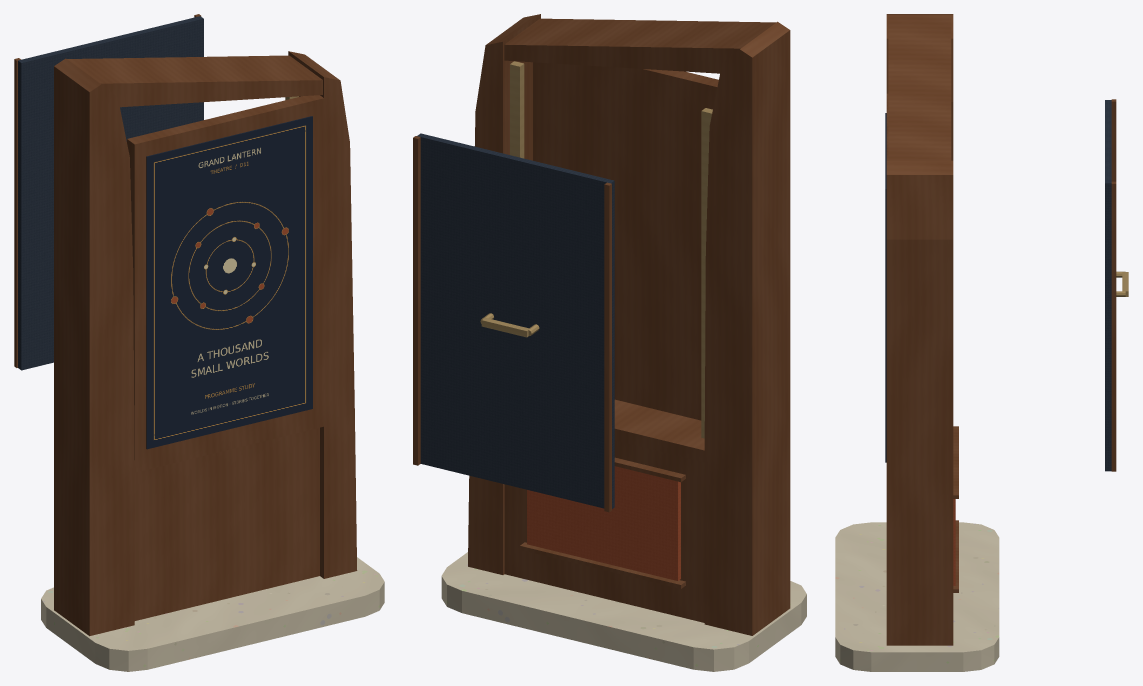
File: AST-CUL-001_access.glb
3 renders of one model, left to right at view 1: azimuth 30°, elevation 25°; view 2: azimuth 150°, elevation 25°; view 3: azimuth 270°, elevation 25°, orthographic. The views are drawn at different scales.
Visible parts, largest first — view 1: AST-CUL-001_access__AST-CUL-001__warm_walnut, AST-CUL-001_access__AST-CUL-001__programme_original, AST-CUL-001_access__REAR_SERVICE_PANEL__auditorium_navy_fibr, AST-CUL-001_access__AST-CUL-001__warm_stone, AST-CUL-001_access__REAR_SERVICE_PANEL__warm_walnut; view 2: AST-CUL-001_access__AST-CUL-001__warm_walnut, AST-CUL-001_access__REAR_SERVICE_PANEL__auditorium_navy_fibr, AST-CUL-001_access__AST-CUL-001__warm_stone, AST-CUL-001_access__AST-CUL-001__auditorium_amber_velvet, AST-CUL-001_access__REAR_SERVICE_PANEL__warm_walnut, AST-CUL-001_access__AST-CUL-001__champagne_metal, AST-CUL-001_access__REAR_SERVICE_PANEL__champagne_metal; view 3: AST-CUL-001_access__AST-CUL-001__warm_walnut, AST-CUL-001_access__AST-CUL-001__warm_stone, AST-CUL-001_access__REAR_SERVICE_PANEL__auditorium_navy_fibr, AST-CUL-001_access__REAR_SERVICE_PANEL__warm_walnut, AST-CUL-001_access__AST-CUL-001__programme_original.
Part boxes in pixels (box(x1,y1,x2,y2)): AST-CUL-001_access__AST-CUL-001__warm_walnut: box(54, 51, 357, 636); AST-CUL-001_access__AST-CUL-001__programme_original: box(146, 116, 312, 449); AST-CUL-001_access__REAR_SERVICE_PANEL__auditorium_navy_fibr: box(18, 16, 203, 370); AST-CUL-001_access__AST-CUL-001__warm_stone: box(41, 557, 384, 671); AST-CUL-001_access__REAR_SERVICE_PANEL__warm_walnut: box(14, 14, 201, 367); AST-CUL-001_access__AST-CUL-001__warm_walnut: box(468, 14, 790, 635); AST-CUL-001_access__REAR_SERVICE_PANEL__auditorium_navy_fibr: box(417, 133, 614, 508); AST-CUL-001_access__AST-CUL-001__warm_stone: box(441, 552, 806, 671); AST-CUL-001_access__AST-CUL-001__auditorium_amber_velvet: box(527, 466, 680, 580); AST-CUL-001_access__REAR_SERVICE_PANEL__warm_walnut: box(413, 136, 611, 512); AST-CUL-001_access__AST-CUL-001__champagne_metal: box(510, 61, 712, 438); AST-CUL-001_access__REAR_SERVICE_PANEL__champagne_metal: box(480, 313, 539, 337); AST-CUL-001_access__AST-CUL-001__warm_walnut: box(886, 14, 958, 645); AST-CUL-001_access__AST-CUL-001__warm_stone: box(835, 522, 999, 671); AST-CUL-001_access__REAR_SERVICE_PANEL__auditorium_navy_fibr: box(1105, 100, 1111, 471); AST-CUL-001_access__REAR_SERVICE_PANEL__warm_walnut: box(1111, 99, 1116, 471); AST-CUL-001_access__AST-CUL-001__programme_original: box(885, 113, 886, 462).
Size of the model in its own units: 1.2 by 2.3 by 1.14.
Materials: 6 (6 with a texture image).
